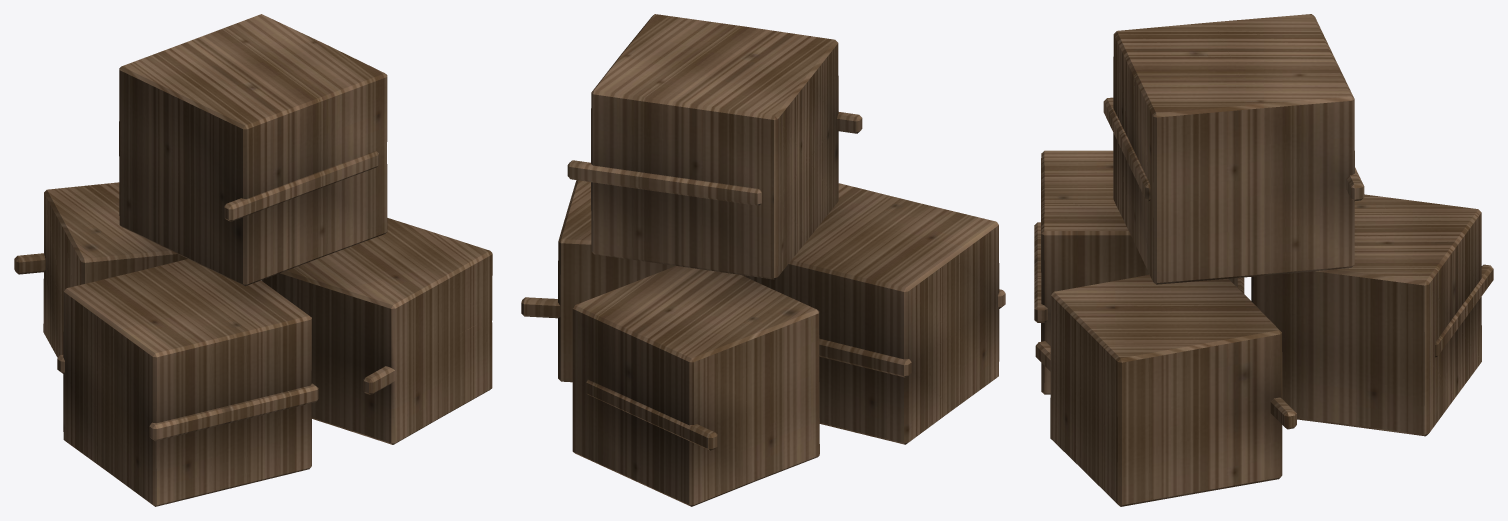
File: p_crates.hi.glb
3 renders of one model, left to right at view 1: azimuth 30°, elevation 25°; view 2: azimuth 150°, elevation 25°; view 3: azimuth 270°, elevation 25°, orthographic. The views are drawn at different scales.
Visible parts, largest first — view 1: crates; view 2: crates; view 3: crates.
Part boxes in pixels (x1,y1,x2,y2): crates: (14,14,492,506); crates: (521,14,1005,506); crates: (1034,14,1493,506).
Bounding box in the file's own units: 1.73 × 1.42 × 1.7.
1 material, 1 textured.
